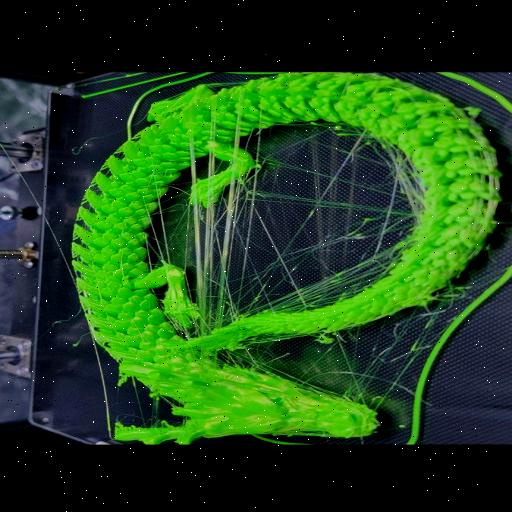stringing: (196, 235, 410, 336), (190, 124, 266, 335), (341, 283, 461, 410), (218, 333, 309, 385), (377, 142, 422, 227)
